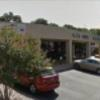cars: (11, 66, 62, 94), (73, 56, 100, 74)
